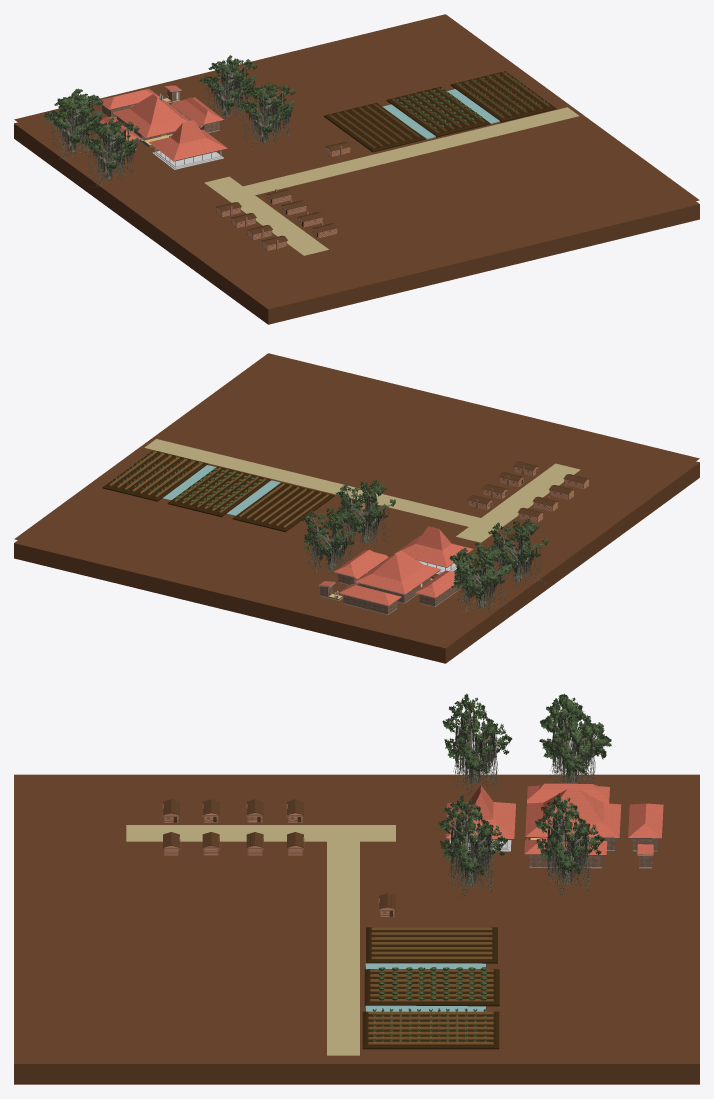
Rendered from desaNew.compressed.glb.
3 views of the same model, one above another, from view 1: azimuth 30°, elevation 25°; view 2: azimuth 150°, elevation 25°; view 3: azimuth 270°, elevation 25° (orthographic). The views are drawn at different scales.
Visible parts, largest first — view 1: Cube.001, Cube.002, Cylinder.000_Soil_0, ChineseBanyan_Med_BanyanTreeLeaves_1_0, ChineseBanyan_Med_BanyanTreeBark_0, Cylinder.000_TurnedSoil_0, Cabin, ChineseBanyan_Med_Vines_01_0, Mesh409_Roof_Tiles___French_Red_0, Mesh408_Roof_Tiles___French_Red_0, Cylinder.000_Material_0, ChineseBanyan_Med_BanyanTreeLeaves_2_0 (+2 smaller); view 2: Cube.001, Cube.002, Cylinder.000_Soil_0, ChineseBanyan_Med_BanyanTreeLeaves_1_0, ChineseBanyan_Med_BanyanTreeBark_0, Cylinder.000_TurnedSoil_0, Cabin, ChineseBanyan_Med_Vines_01_0, Mesh409_Roof_Tiles___French_Red_0, Mesh408_Roof_Tiles___French_Red_0, ChineseBanyan_Med_BanyanTreeLeaves_2_0, Cylinder.000_Material_0 (+3 smaller); view 3: Cube.001, Cube.002, ChineseBanyan_Med_BanyanTreeLeaves_1_0, Cylinder.000_TurnedSoil_0, Cylinder.000_Soil_0, ChineseBanyan_Med_BanyanTreeBark_0, ChineseBanyan_Med_Vines_01_0, Cabin, Mesh409_Roof_Tiles___French_Red_0, Cylinder.000_Material_0, ChineseBanyan_Med_BanyanTreeLeaves_2_0, Mesh408_Roof_Tiles___French_Red_0 (+4 smaller).
Boxes of the visible parts, <box> form: Cube.001: <box>14,14,699,324</box>; Cube.002: <box>204,107,579,255</box>; Cylinder.000_Soil_0: <box>324,71,556,152</box>; ChineseBanyan_Med_BanyanTreeLeaves_1_0: <box>46,55,295,168</box>; ChineseBanyan_Med_BanyanTreeBark_0: <box>50,62,292,187</box>; Cylinder.000_TurnedSoil_0: <box>329,71,550,148</box>; Cabin: <box>216,141,351,250</box>; ChineseBanyan_Med_Vines_01_0: <box>57,66,289,177</box>; Mesh409_Roof_Tiles___French_Red_0: <box>113,94,190,137</box>; Mesh408_Roof_Tiles___French_Red_0: <box>149,120,227,161</box>; Cylinder.000_Material_0: <box>395,72,548,129</box>; ChineseBanyan_Med_BanyanTreeLeaves_2_0: <box>44,88,102,138</box>; Cube.001: <box>14,353,699,663</box>; Cube.002: <box>144,439,580,542</box>; Cylinder.000_Soil_0: <box>102,450,334,532</box>; ChineseBanyan_Med_BanyanTreeLeaves_1_0: <box>301,479,548,594</box>; ChineseBanyan_Med_BanyanTreeBark_0: <box>305,486,545,615</box>; Cylinder.000_TurnedSoil_0: <box>108,451,329,527</box>; Cabin: <box>340,461,589,522</box>; ChineseBanyan_Med_Vines_01_0: <box>309,491,536,605</box>; Mesh409_Roof_Tiles___French_Red_0: <box>355,550,441,594</box>; Mesh408_Roof_Tiles___French_Red_0: <box>394,526,473,567</box>; ChineseBanyan_Med_BanyanTreeLeaves_2_0: <box>449,542,511,598</box>; Cylinder.000_Material_0: <box>112,450,262,509</box>; Cube.001: <box>14,774,699,1084</box>; Cube.002: <box>126,825,395,1055</box>; ChineseBanyan_Med_BanyanTreeLeaves_1_0: <box>438,693,609,874</box>; Cylinder.000_TurnedSoil_0: <box>368,927,493,1044</box>; Cylinder.000_Soil_0: <box>362,927,499,1049</box>; ChineseBanyan_Med_BanyanTreeBark_0: <box>445,701,601,897</box>; ChineseBanyan_Med_Vines_01_0: <box>449,710,592,884</box>; Cabin: <box>162,799,395,916</box>; Mesh409_Roof_Tiles___French_Red_0: <box>525,789,621,838</box>; Cylinder.000_Material_0: <box>372,967,486,1041</box>; ChineseBanyan_Med_BanyanTreeLeaves_2_0: <box>539,694,611,775</box>; Mesh408_Roof_Tiles___French_Red_0: <box>445,785,515,839</box>.
Size of the model in its own units: 173 by 30.48 by 171.
Materials: 26 (10 with a texture image).
